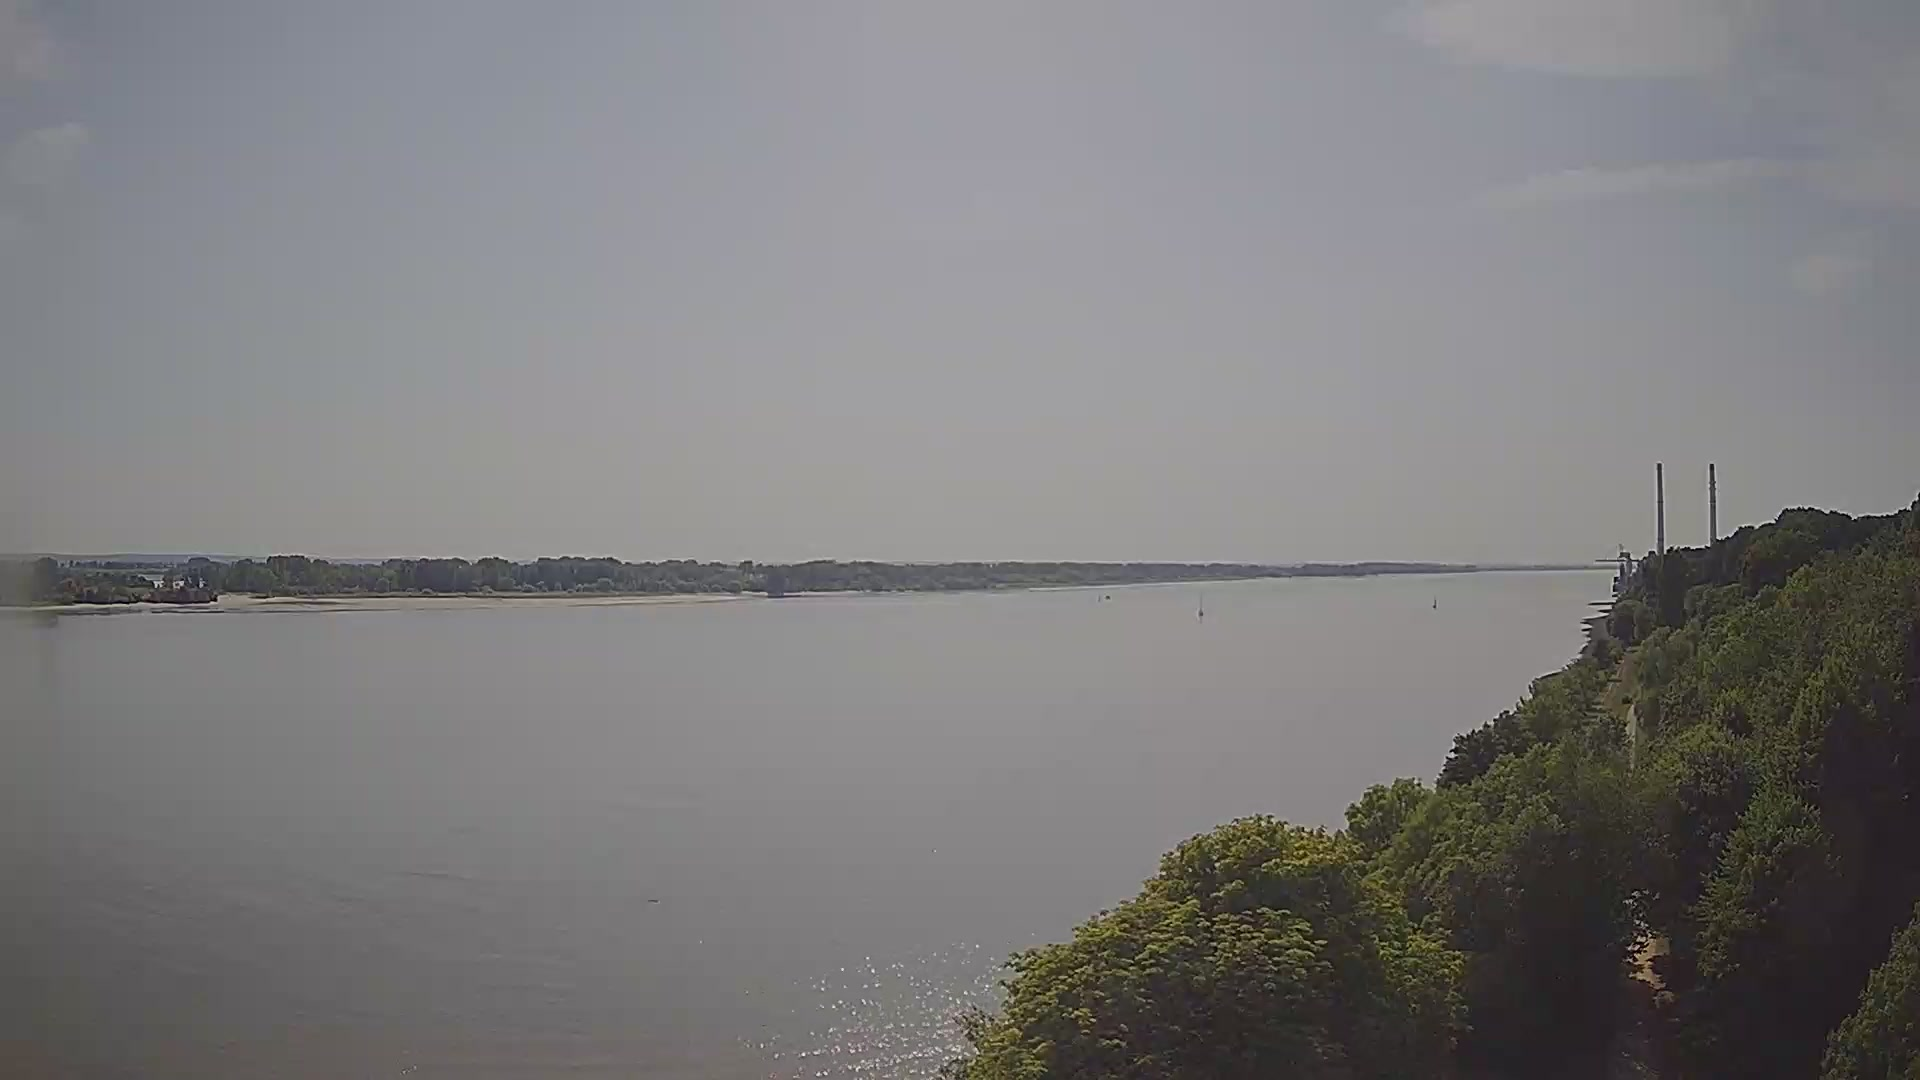sea: (1197, 591, 1207, 617)
